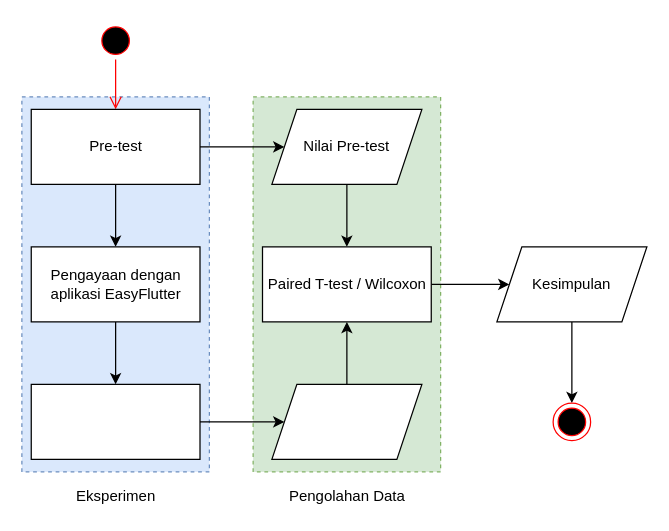
Image size: 669x531. Some labels were removed from this diagram. Here are the shapes that lost their labels. From the top down, the centre of each, then its label:
At [115,421]: "Post-test".
At [346,421]: "Nilai Post-test".
